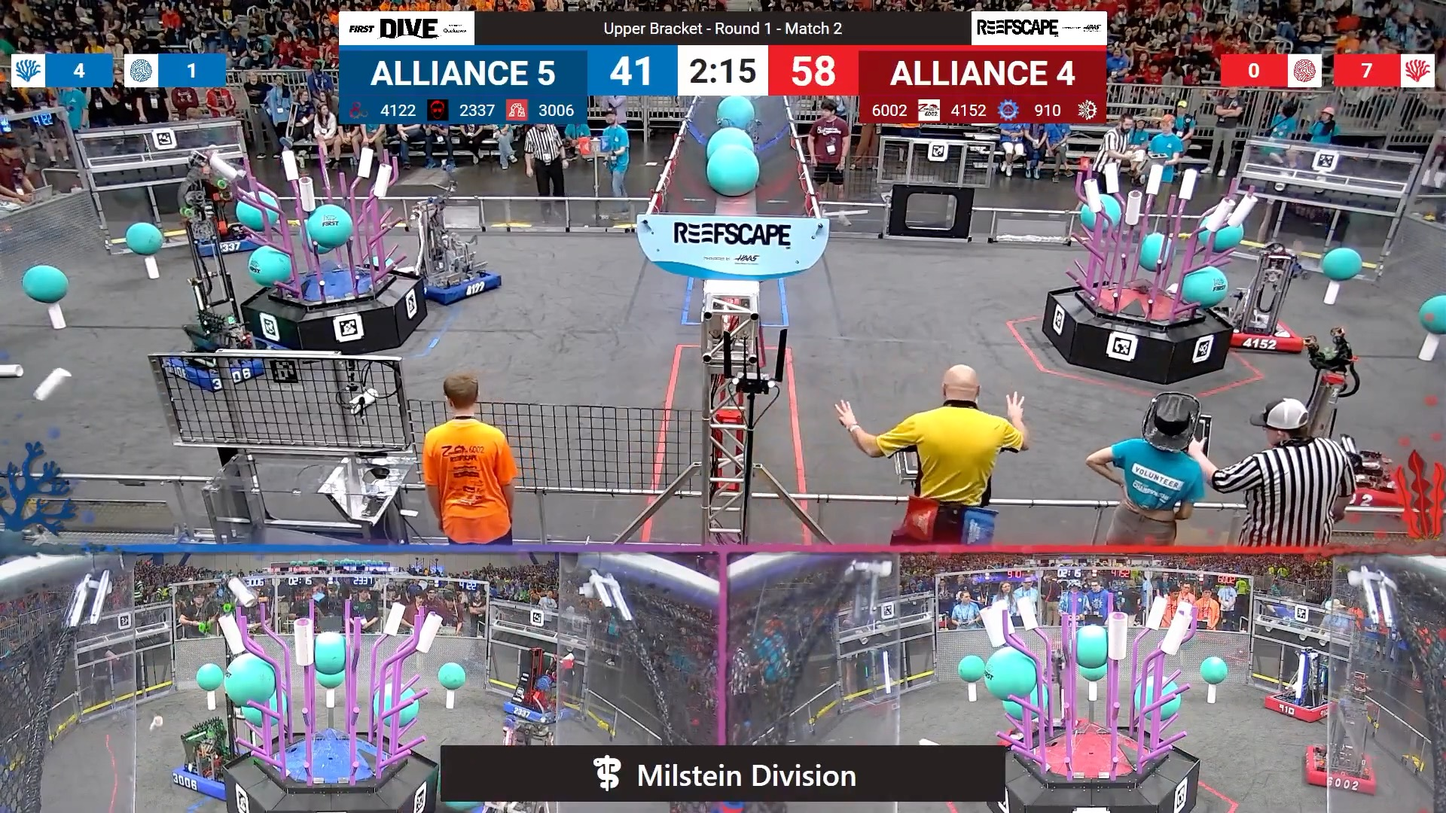bumpers: (161, 344, 277, 392), (397, 260, 509, 305), (1298, 740, 1381, 796), (1217, 309, 1310, 358), (166, 749, 247, 797), (1260, 691, 1340, 726), (498, 696, 575, 726), (185, 231, 264, 258)
